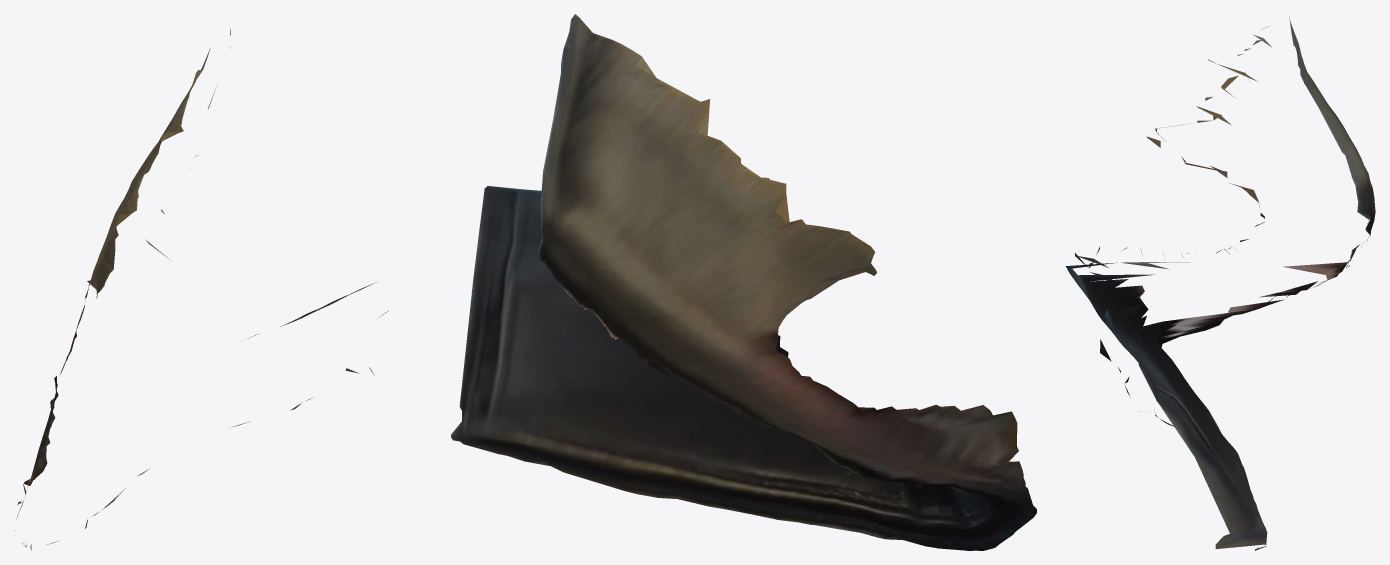
File: observed-surface.glb
3 renders of one model, left to right at view 1: azimuth 30°, elevation 25°; view 2: azimuth 150°, elevation 25°; view 3: azimuth 270°, elevation 25°, orthographic. The views are drawn at different scales.
Visible parts, largest first — view 1: geometry_0; view 2: geometry_0; view 3: geometry_0.
Part boxes in pixels (bbox=[...]): geometry_0: bbox=[14, 28, 388, 550]; geometry_0: bbox=[451, 14, 1036, 550]; geometry_0: bbox=[1066, 16, 1375, 550].
Size of the model in its own units: 0.7549 by 0.714 by 0.3839.
1 material, 1 textured.
